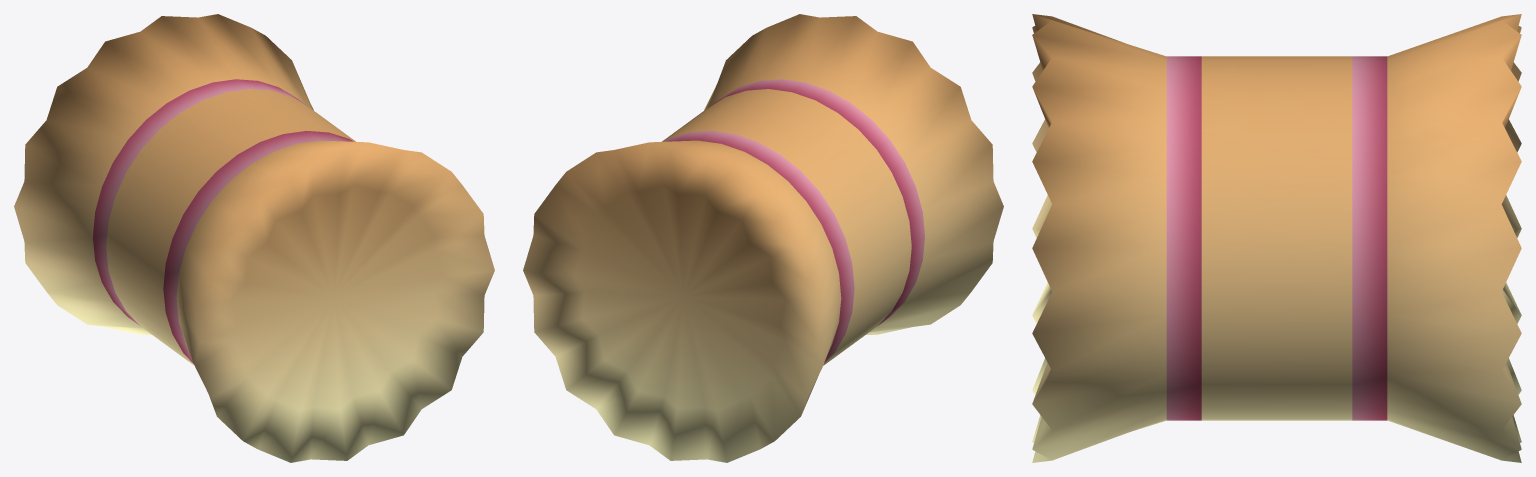
File: hayBale.fbx
3 views of the same model, side by side, from view 1: azimuth 30°, elevation 25°; view 2: azimuth 150°, elevation 25°; view 3: azimuth 270°, elevation 25° (orthographic). The views are drawn at different scales.
Visible parts, largest first — view 1: HayBale; view 2: HayBale; view 3: HayBale.
Part boxes in pixels (x1=…): HayBale: x1=14, y1=14, x2=494, y2=462; HayBale: x1=523, y1=14, x2=1003, y2=462; HayBale: x1=1032, y1=14, x2=1521, y2=462.
Size of the model in its own units: 91.44 by 91.44 by 99.61.
